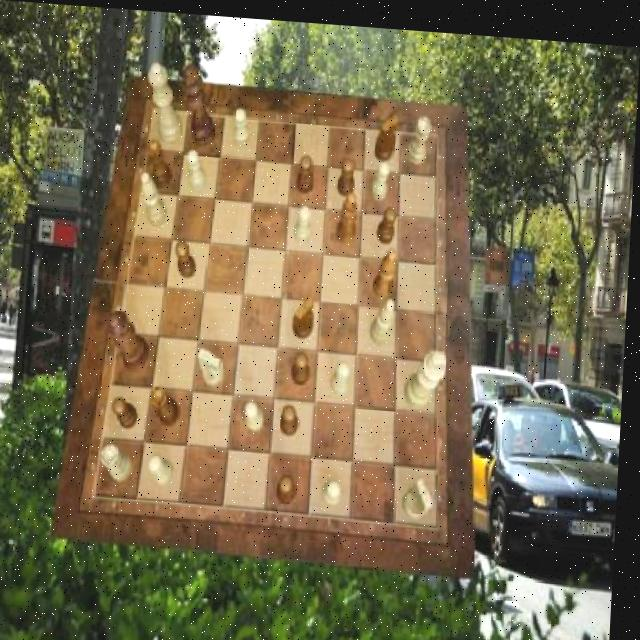bishop: (375, 242, 400, 295), (339, 186, 361, 240)
black-bishop: (181, 60, 220, 145)
black-king: (376, 108, 401, 157), (295, 292, 317, 335)
black-knight: (117, 395, 144, 428), (177, 239, 199, 276), (299, 150, 318, 189), (339, 152, 358, 191), (379, 201, 398, 238), (295, 349, 315, 382), (283, 399, 303, 431), (282, 471, 302, 500)
black-pawn: (108, 307, 155, 371)
black-queen: (147, 138, 175, 187), (154, 384, 185, 426)
black-rook: (142, 170, 171, 226), (373, 292, 399, 339)
white-bishop: (408, 343, 450, 405)
white-king: (408, 470, 439, 513), (200, 345, 229, 384)
white-knight: (187, 147, 208, 188), (153, 452, 179, 484), (297, 201, 316, 241), (372, 156, 391, 195), (235, 103, 253, 142), (249, 397, 270, 429), (336, 356, 355, 391), (326, 474, 348, 501)
white-pawn: (145, 60, 186, 140)
white-queen: (105, 443, 140, 481), (409, 110, 433, 159)
